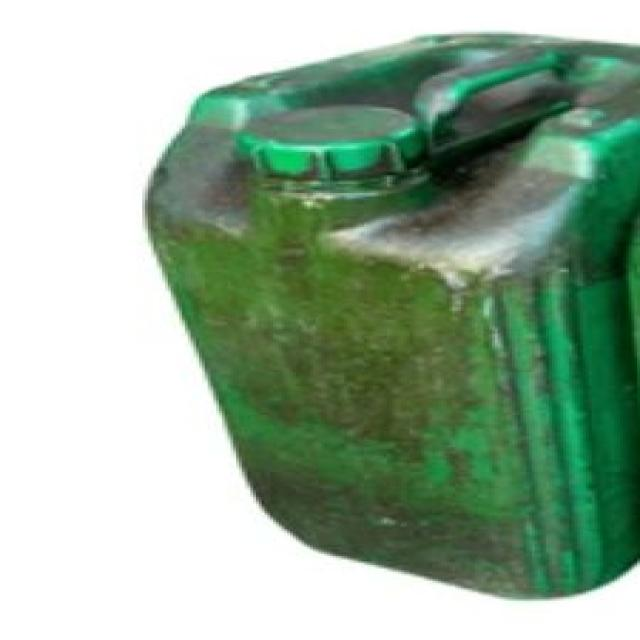general: (78, 10, 576, 582)
